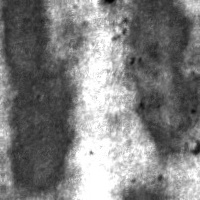patches: (0, 2, 76, 193), (129, 0, 200, 156)
